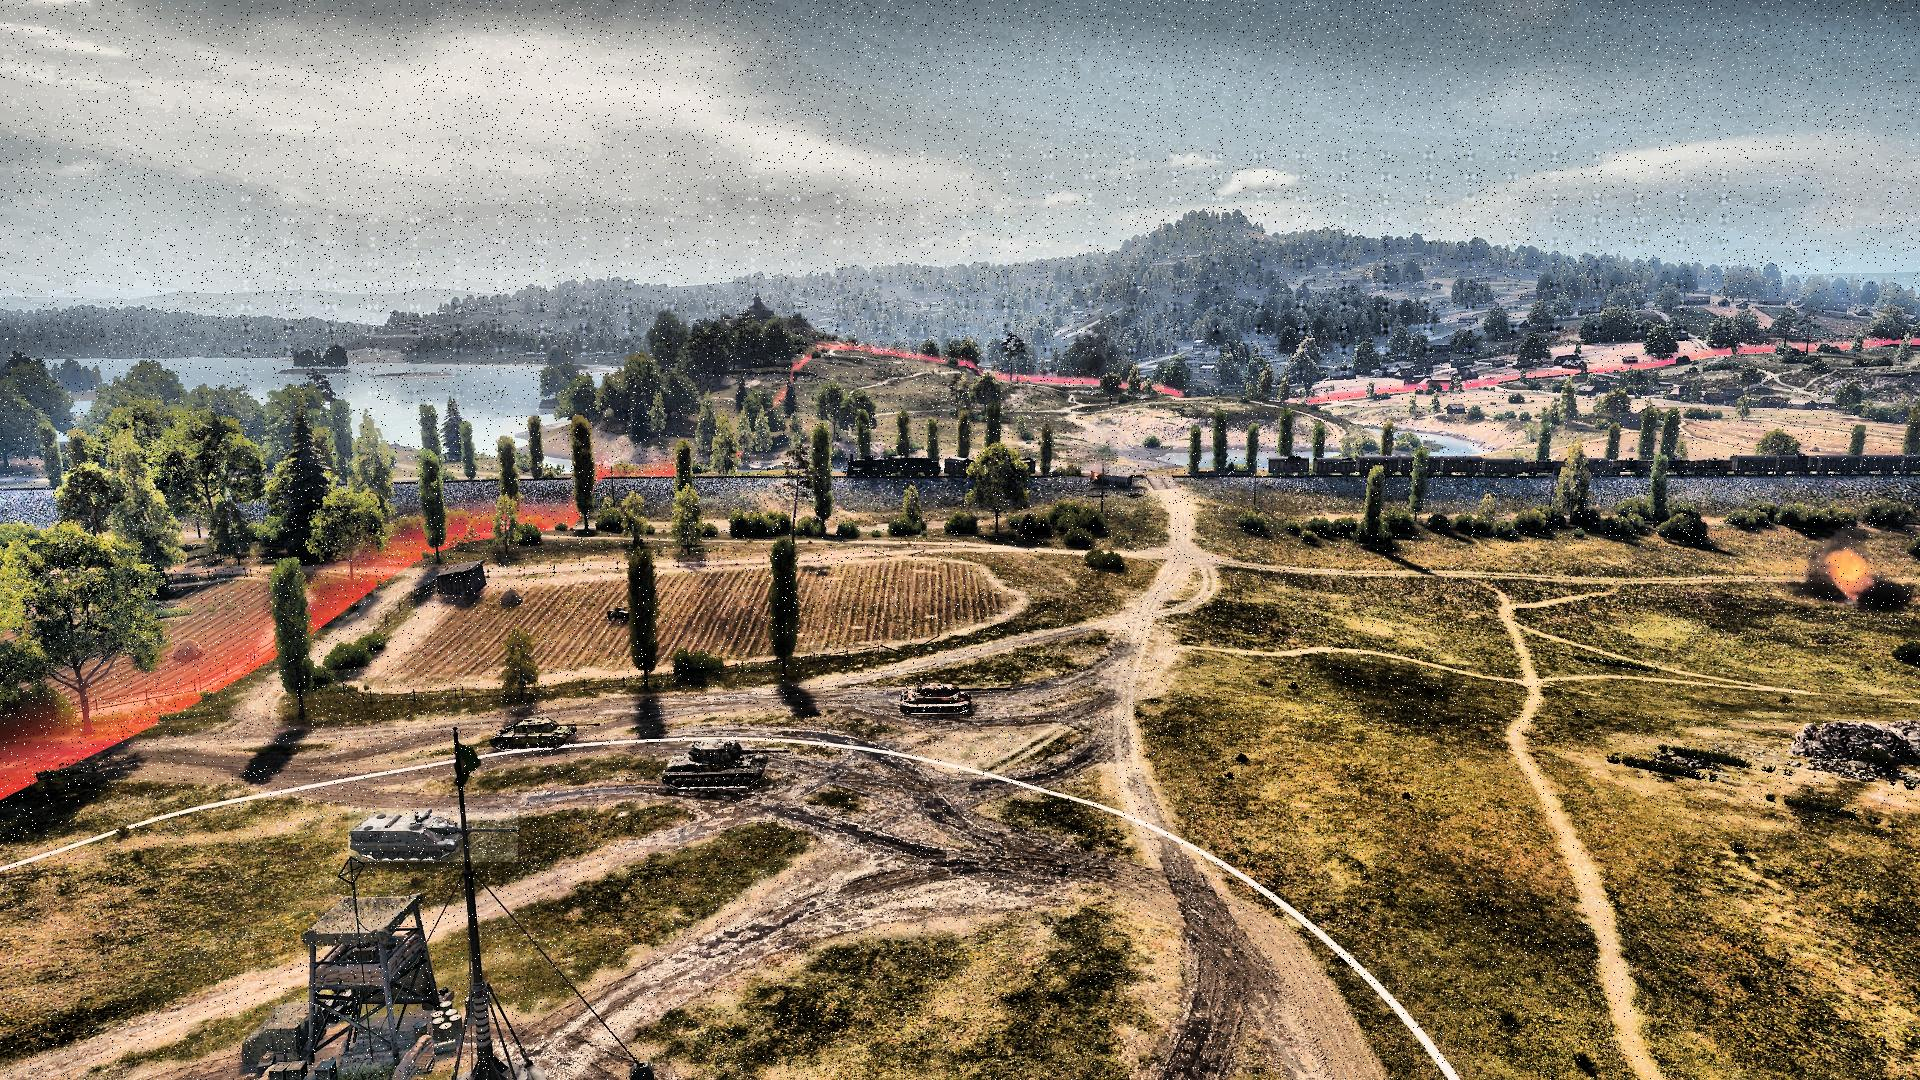military-vehicle: (348, 808, 518, 862), (659, 740, 790, 789), (491, 713, 600, 748)
